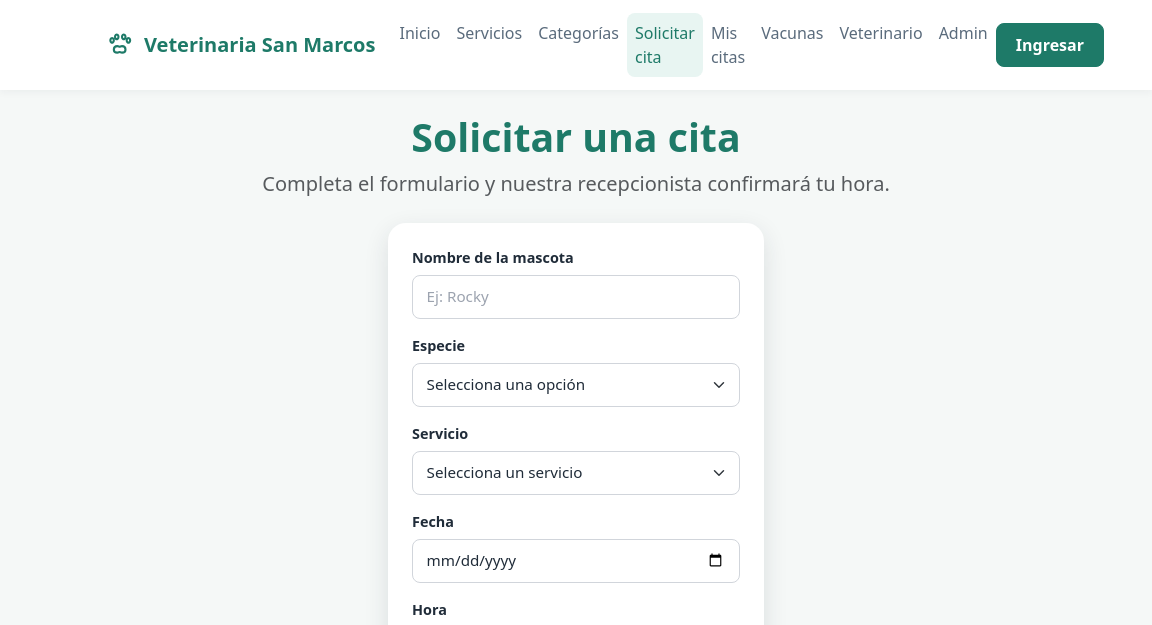
Scenario: Página SolicitarCita › rechaza domingos
In the date field labelled "Fecha": (576, 561) [412,539,740,583], type "2030-03-10"
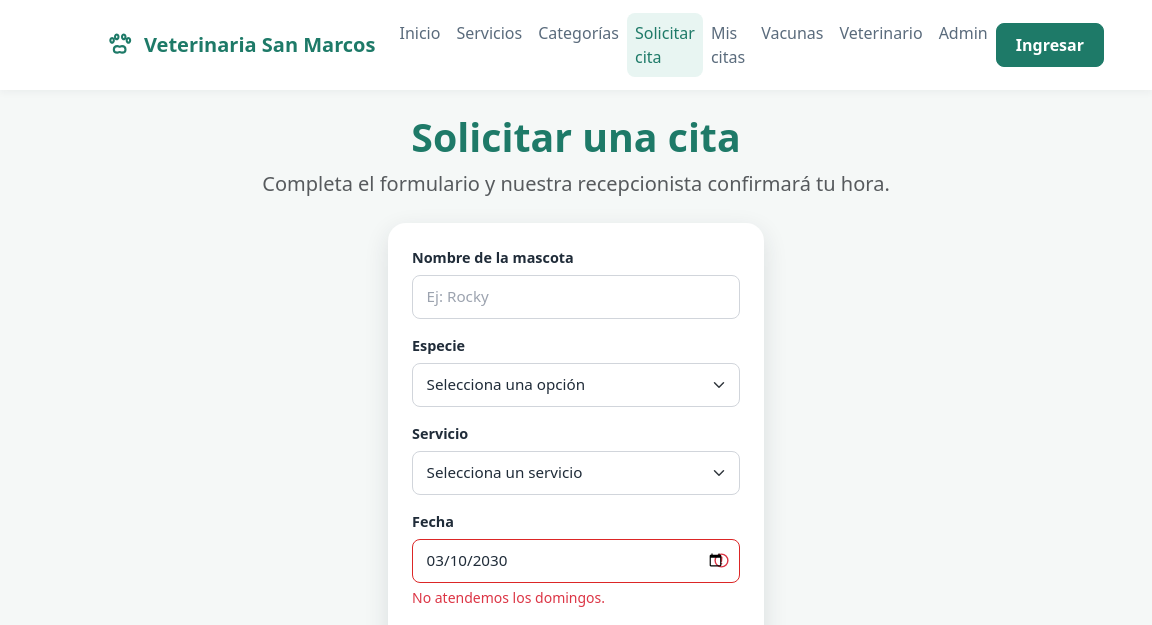
Expected: the text "No atendemos los domingos." is shown, [412,588,605,607]
